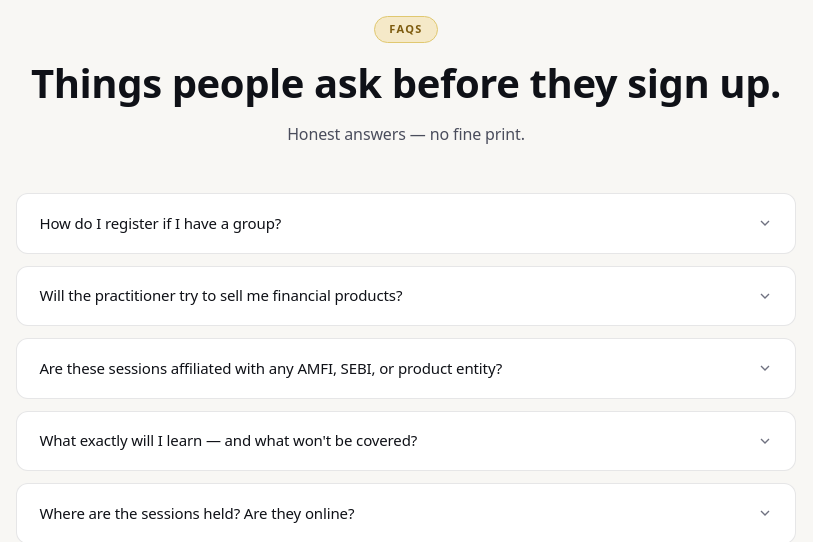
Scenario: Faqs › opens an answer and announces it
Click the button "How do I register if I have a group?". click: click(160, 223)
box: [17, 194, 795, 252]
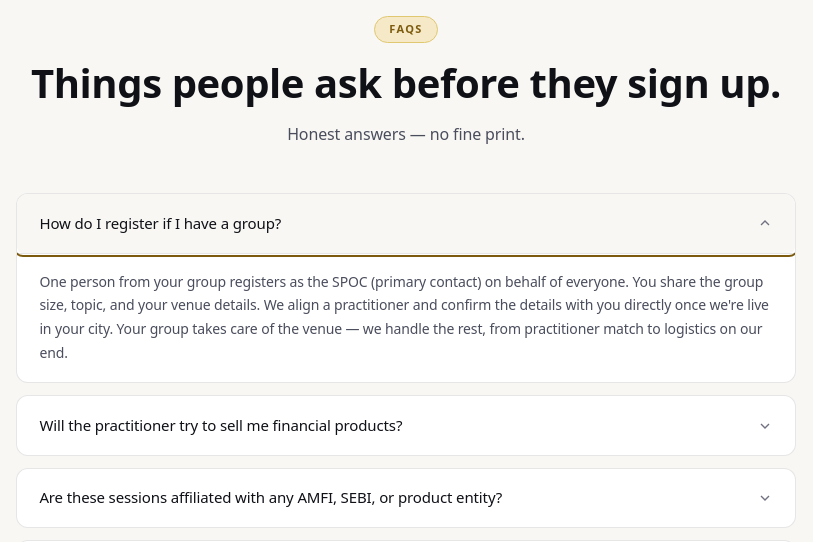
expect the button "How do I register if I have a group?" is expanded: met, box [17, 194, 795, 252]
expect the text "One person from your group registers as the SPOC" is shown: met, box [39, 272, 769, 362]
